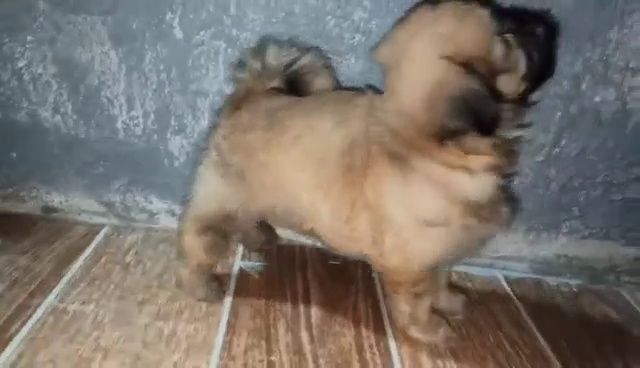dog: (173, 1, 558, 360)
